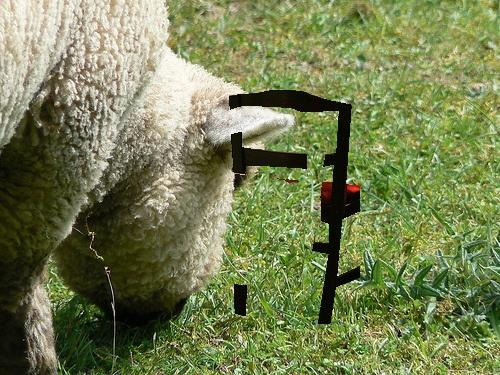tampered: (230, 91, 360, 324)
